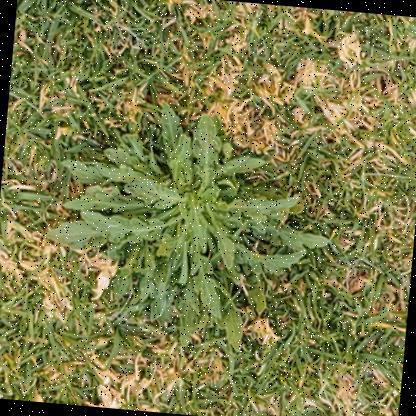Weeds: (38, 92, 340, 360)
